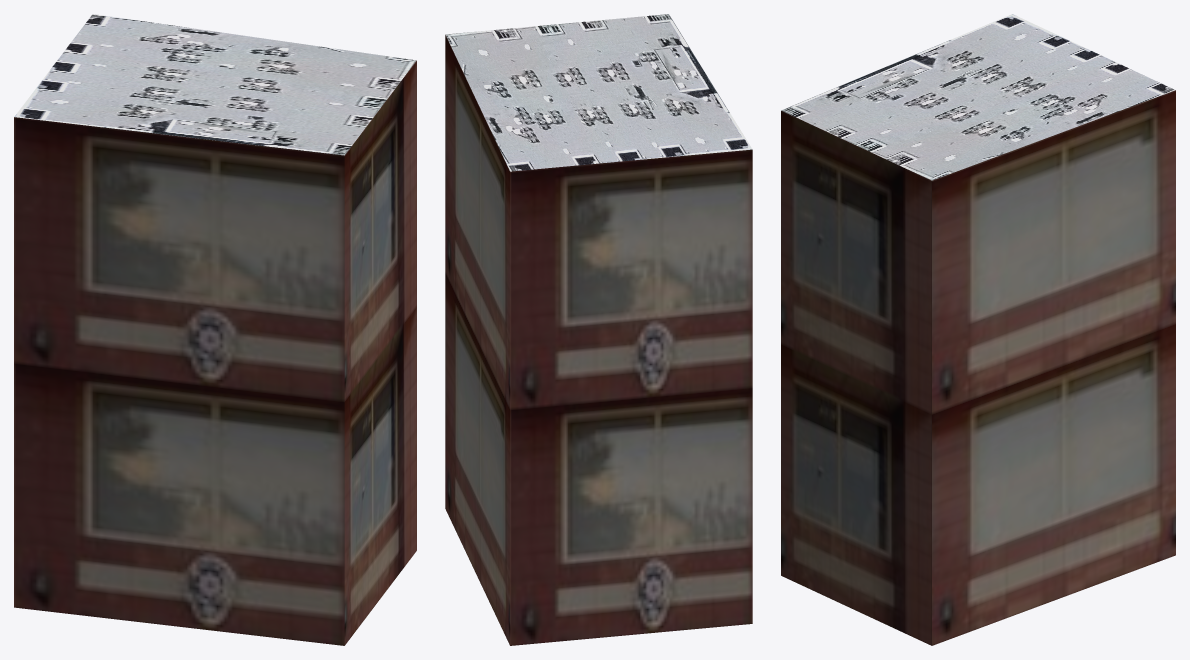
File: ResTex__2803.fbx
3 views of the same model, side by side, from view 1: azimuth 30°, elevation 25°; view 2: azimuth 150°, elevation 25°; view 3: azimuth 270°, elevation 25° (orthographic). The views are drawn at different scales.
Visible parts, largest first — view 1: CityEngineMaterial_13_m, CityEngineMaterial_4_m; view 2: CityEngineMaterial_13_m, CityEngineMaterial_4_m; view 3: CityEngineMaterial_13_m, CityEngineMaterial_4_m.
Boxes of the visible parts, x1,y1,x2,y2 form: CityEngineMaterial_13_m: [14, 60, 416, 645]; CityEngineMaterial_4_m: [14, 14, 416, 155]; CityEngineMaterial_13_m: [445, 35, 752, 645]; CityEngineMaterial_4_m: [445, 14, 752, 171]; CityEngineMaterial_13_m: [781, 90, 1175, 645]; CityEngineMaterial_4_m: [781, 14, 1175, 180].
Size of the model in its own units: 4.61 by 6 by 4.61.
2 materials, 2 textured.
